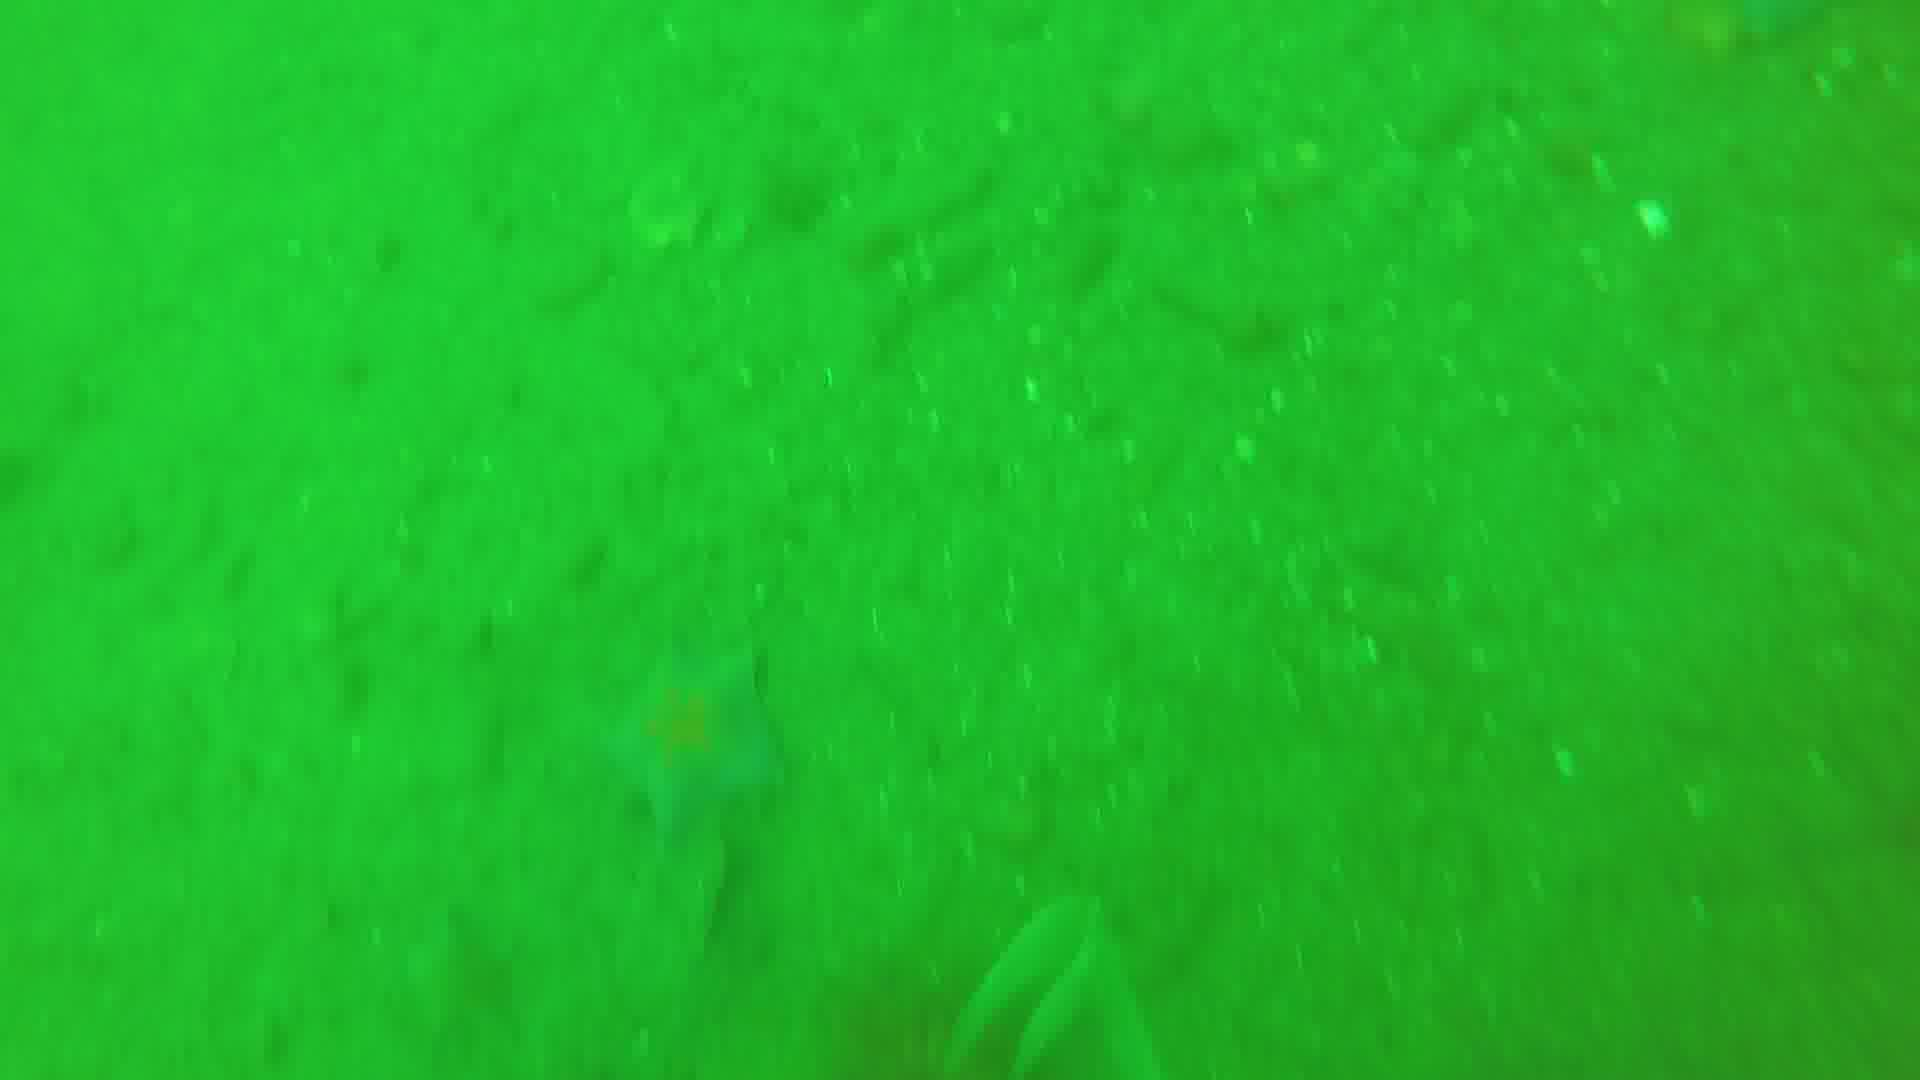starfish: (588, 662, 785, 837)
